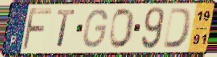9: (140, 6, 166, 51)
D: (161, 6, 194, 49)
F: (20, 7, 53, 52)
G: (82, 8, 110, 50)
O: (108, 7, 137, 50)
T: (56, 9, 78, 49)
